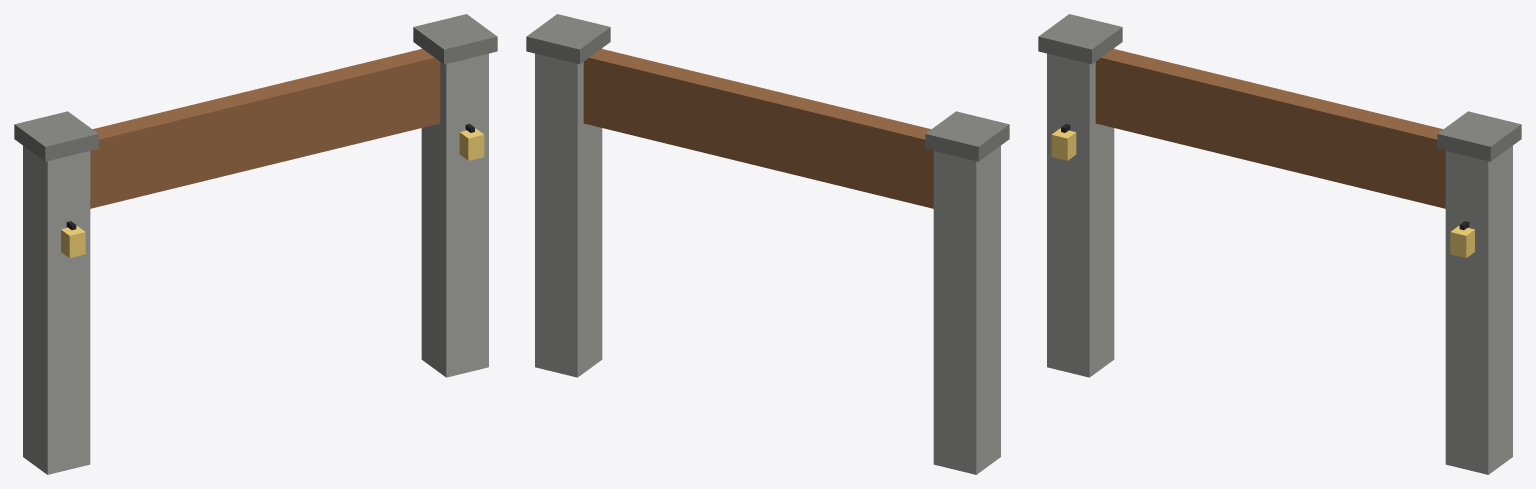
File: ArenaGate.fbx
3 views of the same model, side by side, from view 1: azimuth 30°, elevation 25°; view 2: azimuth 150°, elevation 25°; view 3: azimuth 330°, elevation 25° (orthographic).
Parts seen in each view (by area): view 1: Posts, Sign, Caps, Lanterns; view 2: Posts, Sign, Caps; view 3: Posts, Sign, Caps, Lanterns.
Boxes of the visible parts, box(x1,y1,x2,y2) form: Posts: box(23, 48, 488, 474); Sign: box(90, 48, 440, 208); Caps: box(14, 14, 497, 161); Lanterns: box(61, 128, 484, 257); Posts: box(535, 48, 1000, 474); Sign: box(583, 48, 933, 208); Caps: box(526, 14, 1009, 161); Posts: box(1047, 48, 1512, 474); Sign: box(1095, 48, 1445, 208); Caps: box(1038, 14, 1521, 161); Lanterns: box(1051, 128, 1474, 257).
Bounding box in the file's own units: 12.7 × 8.9 × 1.78.
